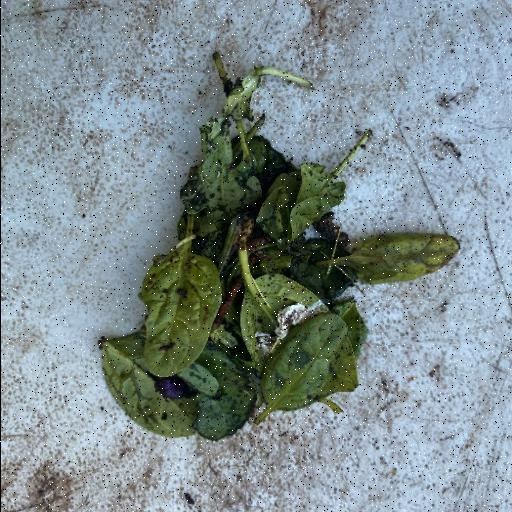Waste: (97, 52, 461, 442)
